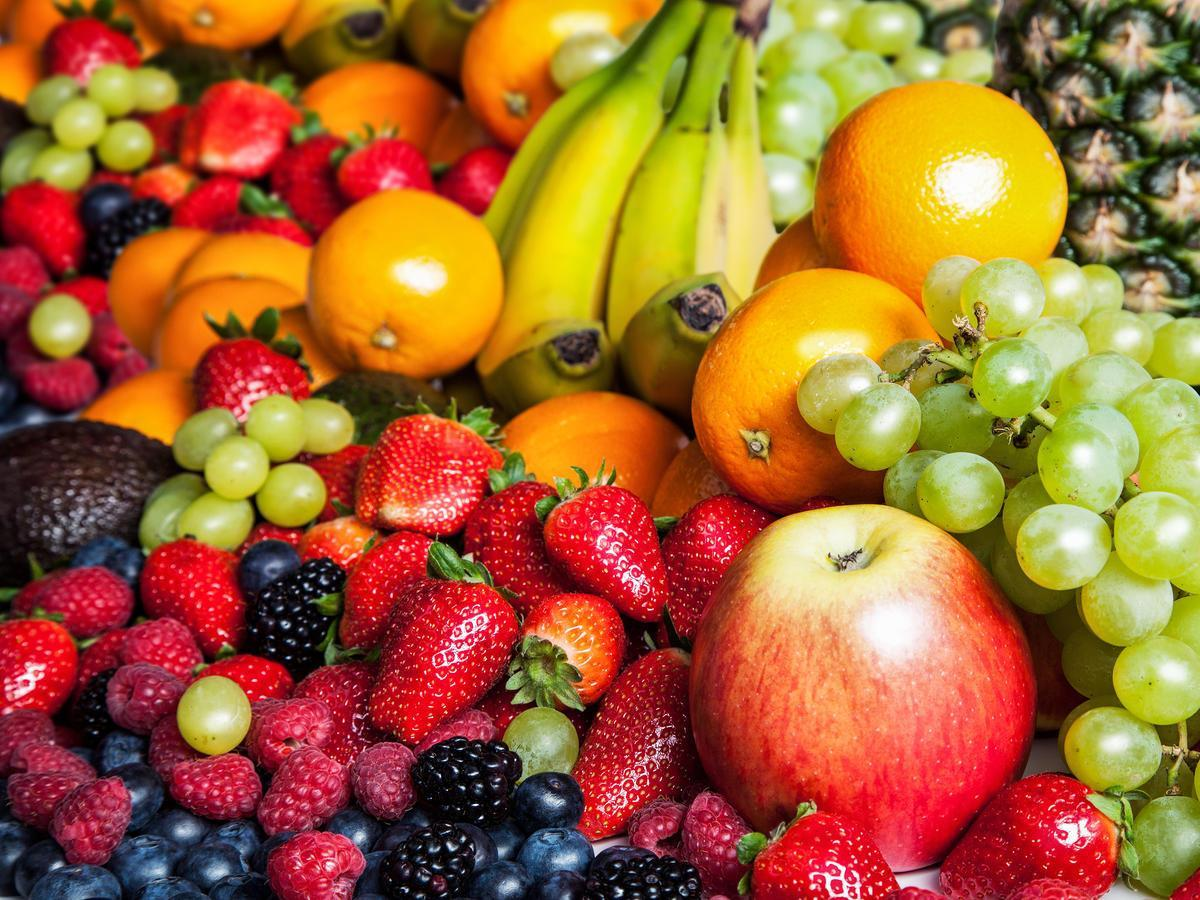apple: (677, 501, 1040, 861)
